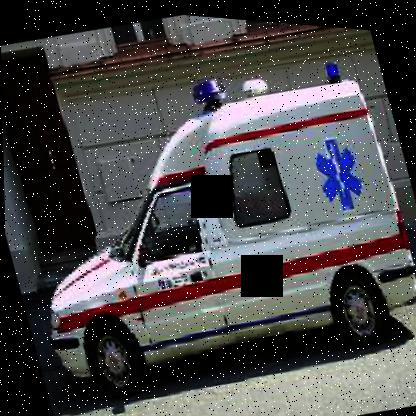emergency: (5, 33, 415, 415)
